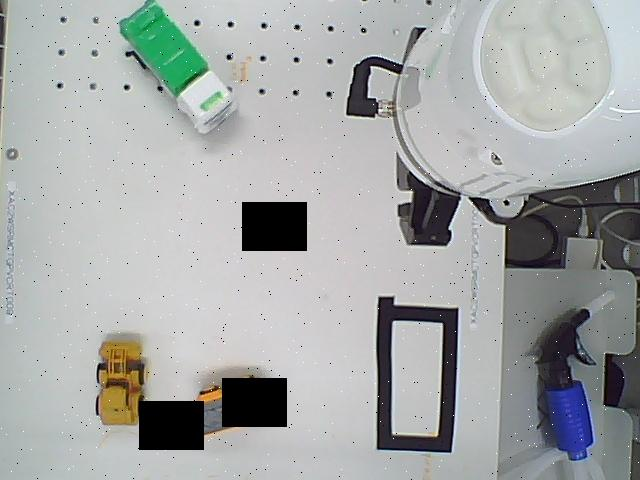Diesel car: (186, 363, 277, 439)
Electric car: (119, 0, 239, 150)
Gasoline car: (92, 335, 150, 429)
